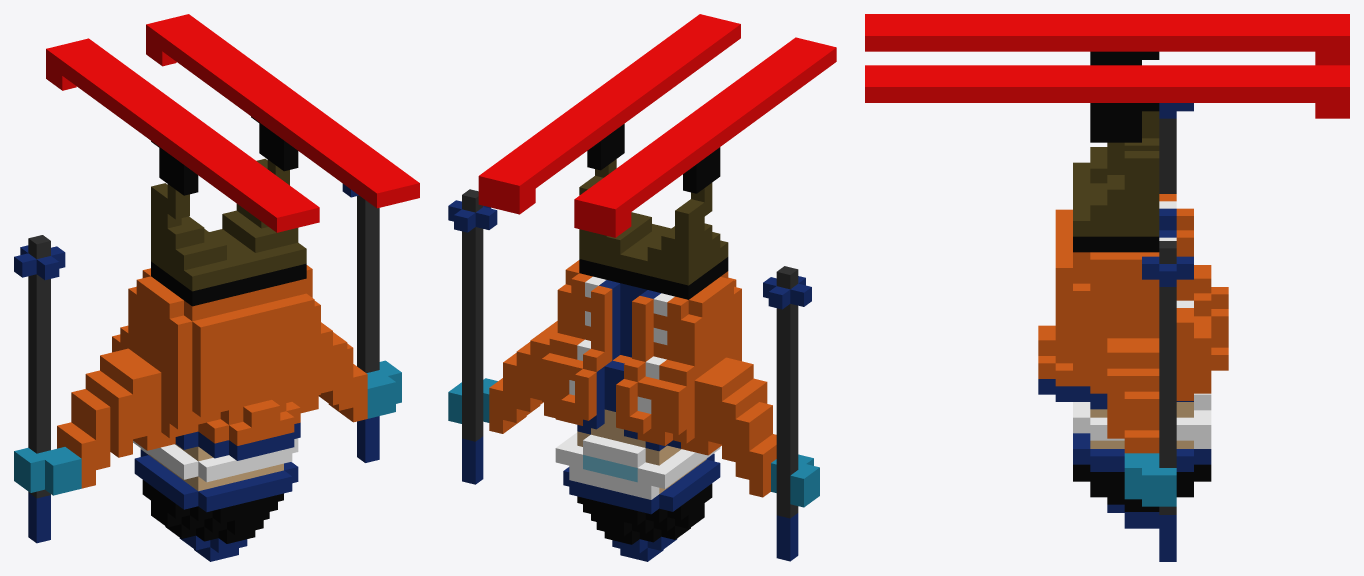
Rendered from Saut_1_Frame_03.obj.
The picture shows the model from 3 angles, left to right: view 1: azimuth 30°, elevation 25°; view 2: azimuth 150°, elevation 25°; view 3: azimuth 270°, elevation 25°; orthographic projection. The views are drawn at different scales.
Bounding box in the file's own units: 26 × 30 × 28.
Materials: 1 (1 with a texture image).
